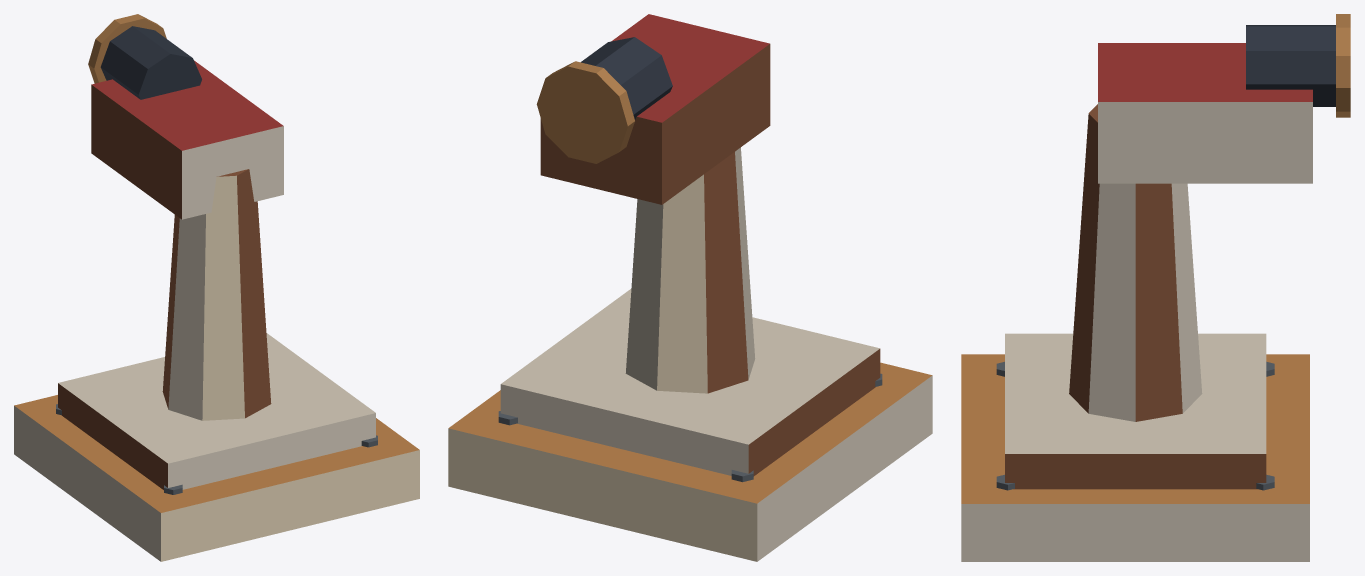
The model's file is Helm_Pedestal.obj.
The picture shows the model from 3 angles, left to right: view 1: azimuth 30°, elevation 25°; view 2: azimuth 150°, elevation 25°; view 3: azimuth 270°, elevation 25°; orthographic projection. The views are drawn at different scales.
Parts seen in each view (by area): view 1: Helm_Pedestal; view 2: Helm_Pedestal; view 3: Helm_Pedestal.
Part boxes in pixels (bbox=[...]): Helm_Pedestal: bbox=[14, 14, 419, 561]; Helm_Pedestal: bbox=[448, 14, 932, 561]; Helm_Pedestal: bbox=[961, 14, 1350, 561].
Size of the model in its own units: 0.61 by 0.8856 by 0.67.
Materials: 1 (1 with a texture image).
